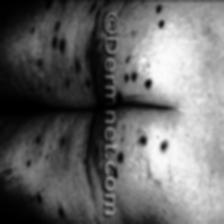Non-Cancerous Skin Condition: (160, 140, 168, 150), (156, 5, 163, 12), (58, 208, 64, 216), (159, 19, 165, 26), (38, 193, 42, 203), (146, 79, 152, 85), (132, 72, 136, 78)
